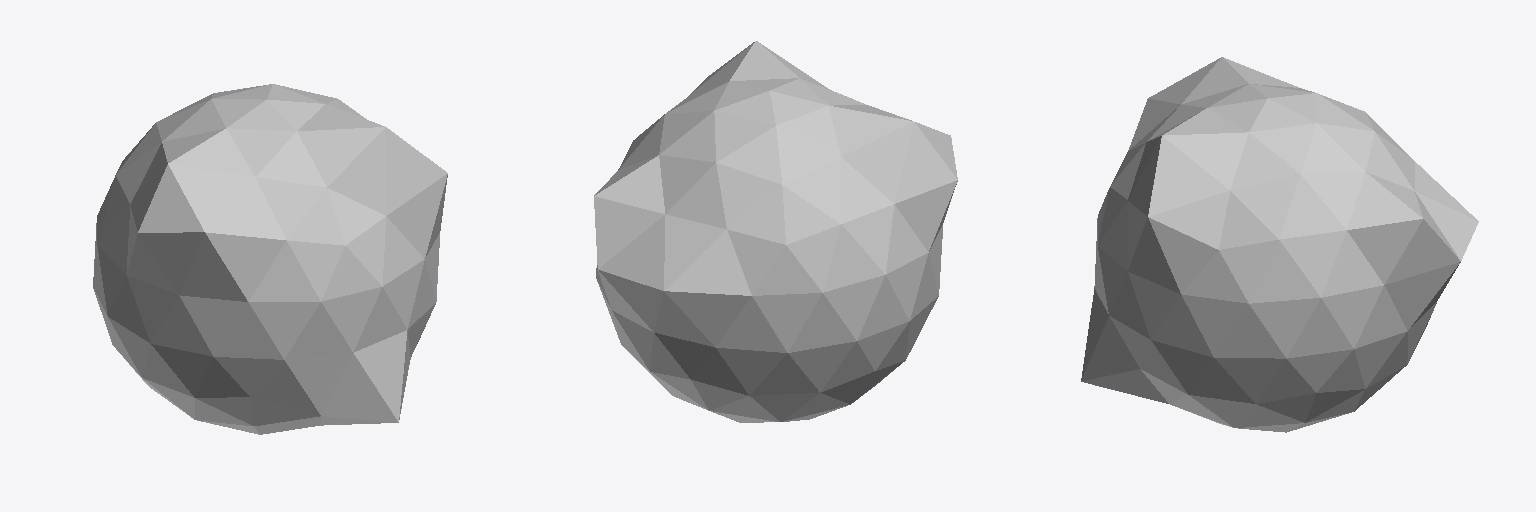
Rendered from simple planet -- extruded -- with mount Emma.obj.
3 renders of one model, left to right at view 1: azimuth 30°, elevation 25°; view 2: azimuth 150°, elevation 25°; view 3: azimuth 270°, elevation 25°, orthographic.
Parts seen in each view (by area): view 1: F3:GeoDome1; view 2: F3:GeoDome1; view 3: F3:GeoDome1.
Part boxes in pixels (bbox=[...]): F3:GeoDome1: bbox=[93, 84, 447, 434]; F3:GeoDome1: bbox=[594, 41, 957, 422]; F3:GeoDome1: bbox=[1081, 57, 1478, 432].
Bounding box in the file's own units: 2.02 × 2 × 2.26.